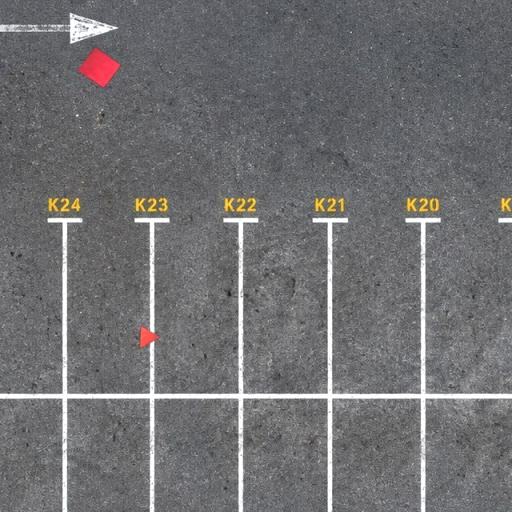RED_SQUARE: (76, 46, 122, 88)
